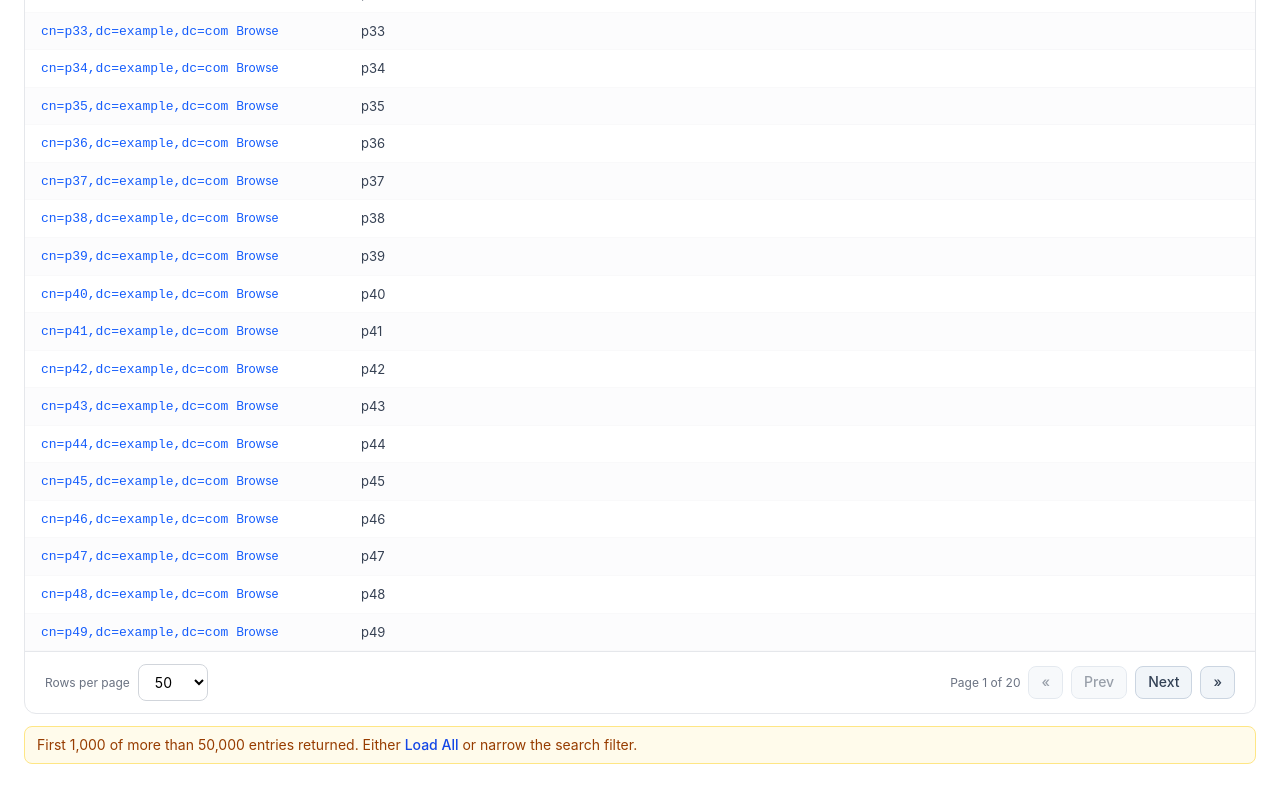
Test case: DirectorySearchView size limit and Load all › reports a lower bound and no Load all when even the unbounded search hit the server ceiling
(page scrolled)
Click the button with test id "search-load-all" at (432, 745), box [405,735,458,755]
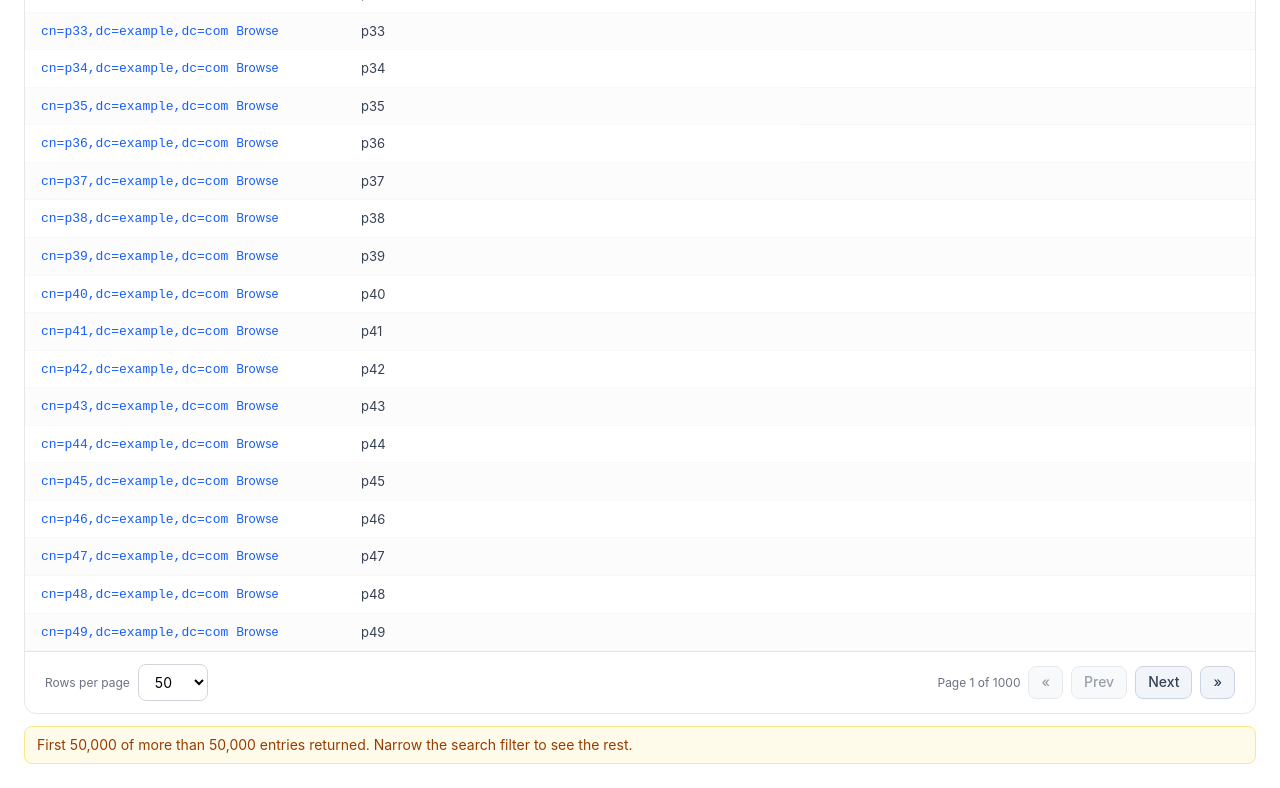
Expected: the message with test id "search-truncated" shows "Narrow the search filter", [374,736,632,753]
Result: the message with test id "search-truncated" shows "First 50,000 of more than 50,000 entries returned." at [37,736,374,753]
